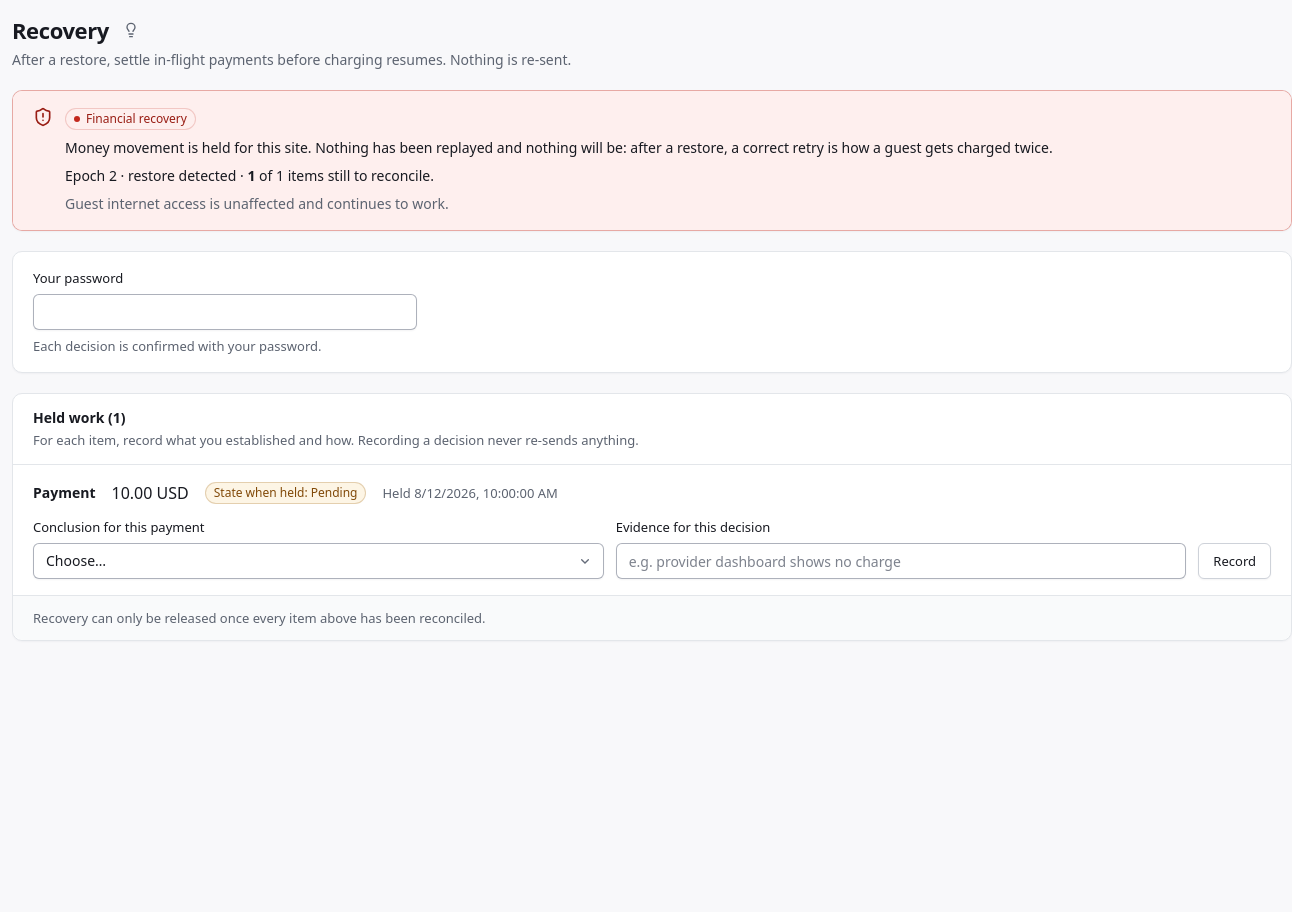
financial recovery › refuses to submit a decision the operator has not actually made
What coordinates should you click on to do the following:
click the button "Record"
I would click on:
 (1235, 561)
Its box is [1198, 543, 1271, 579].
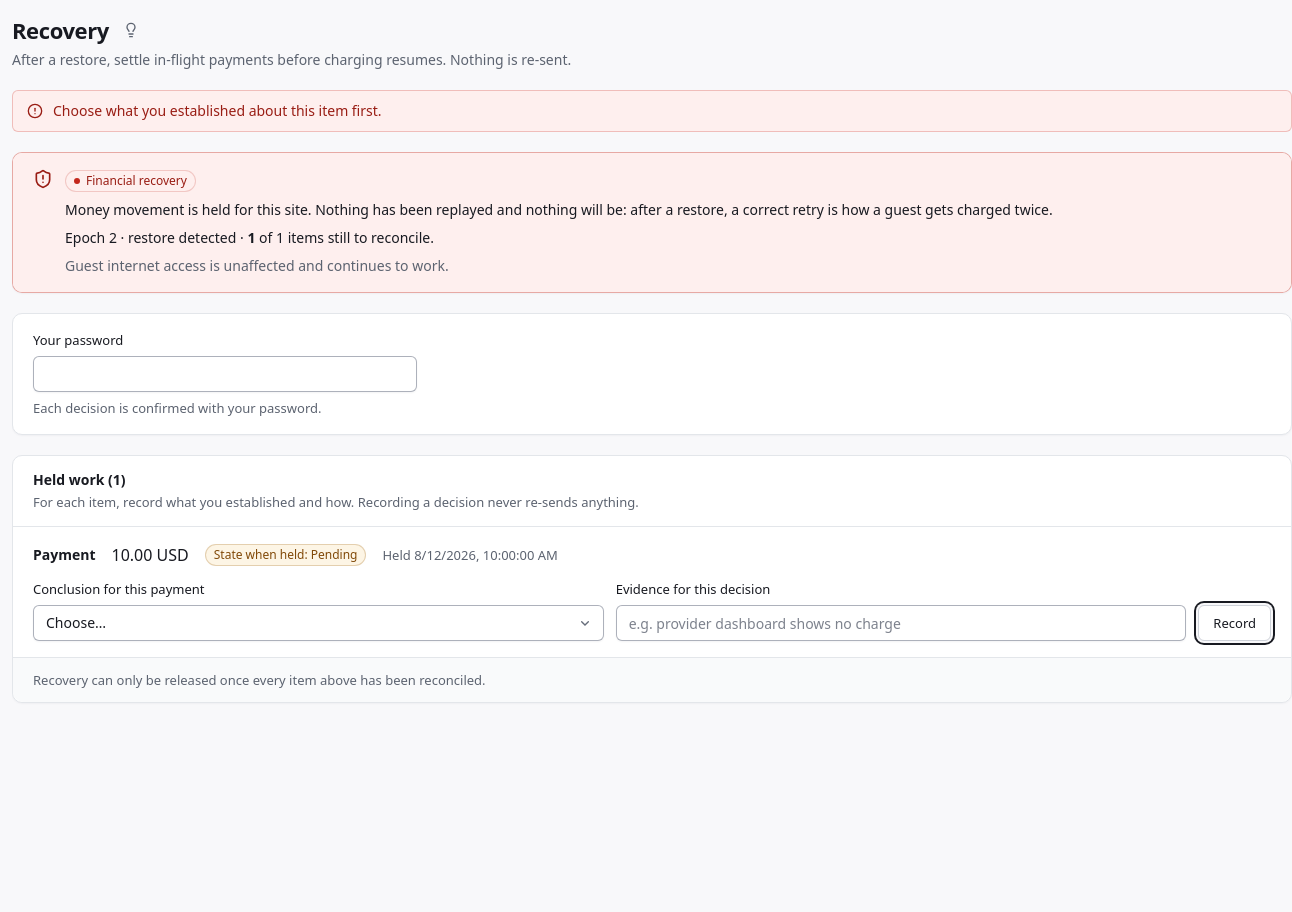
expect the message shows "Choose what you established": met, box [53, 101, 382, 120]
